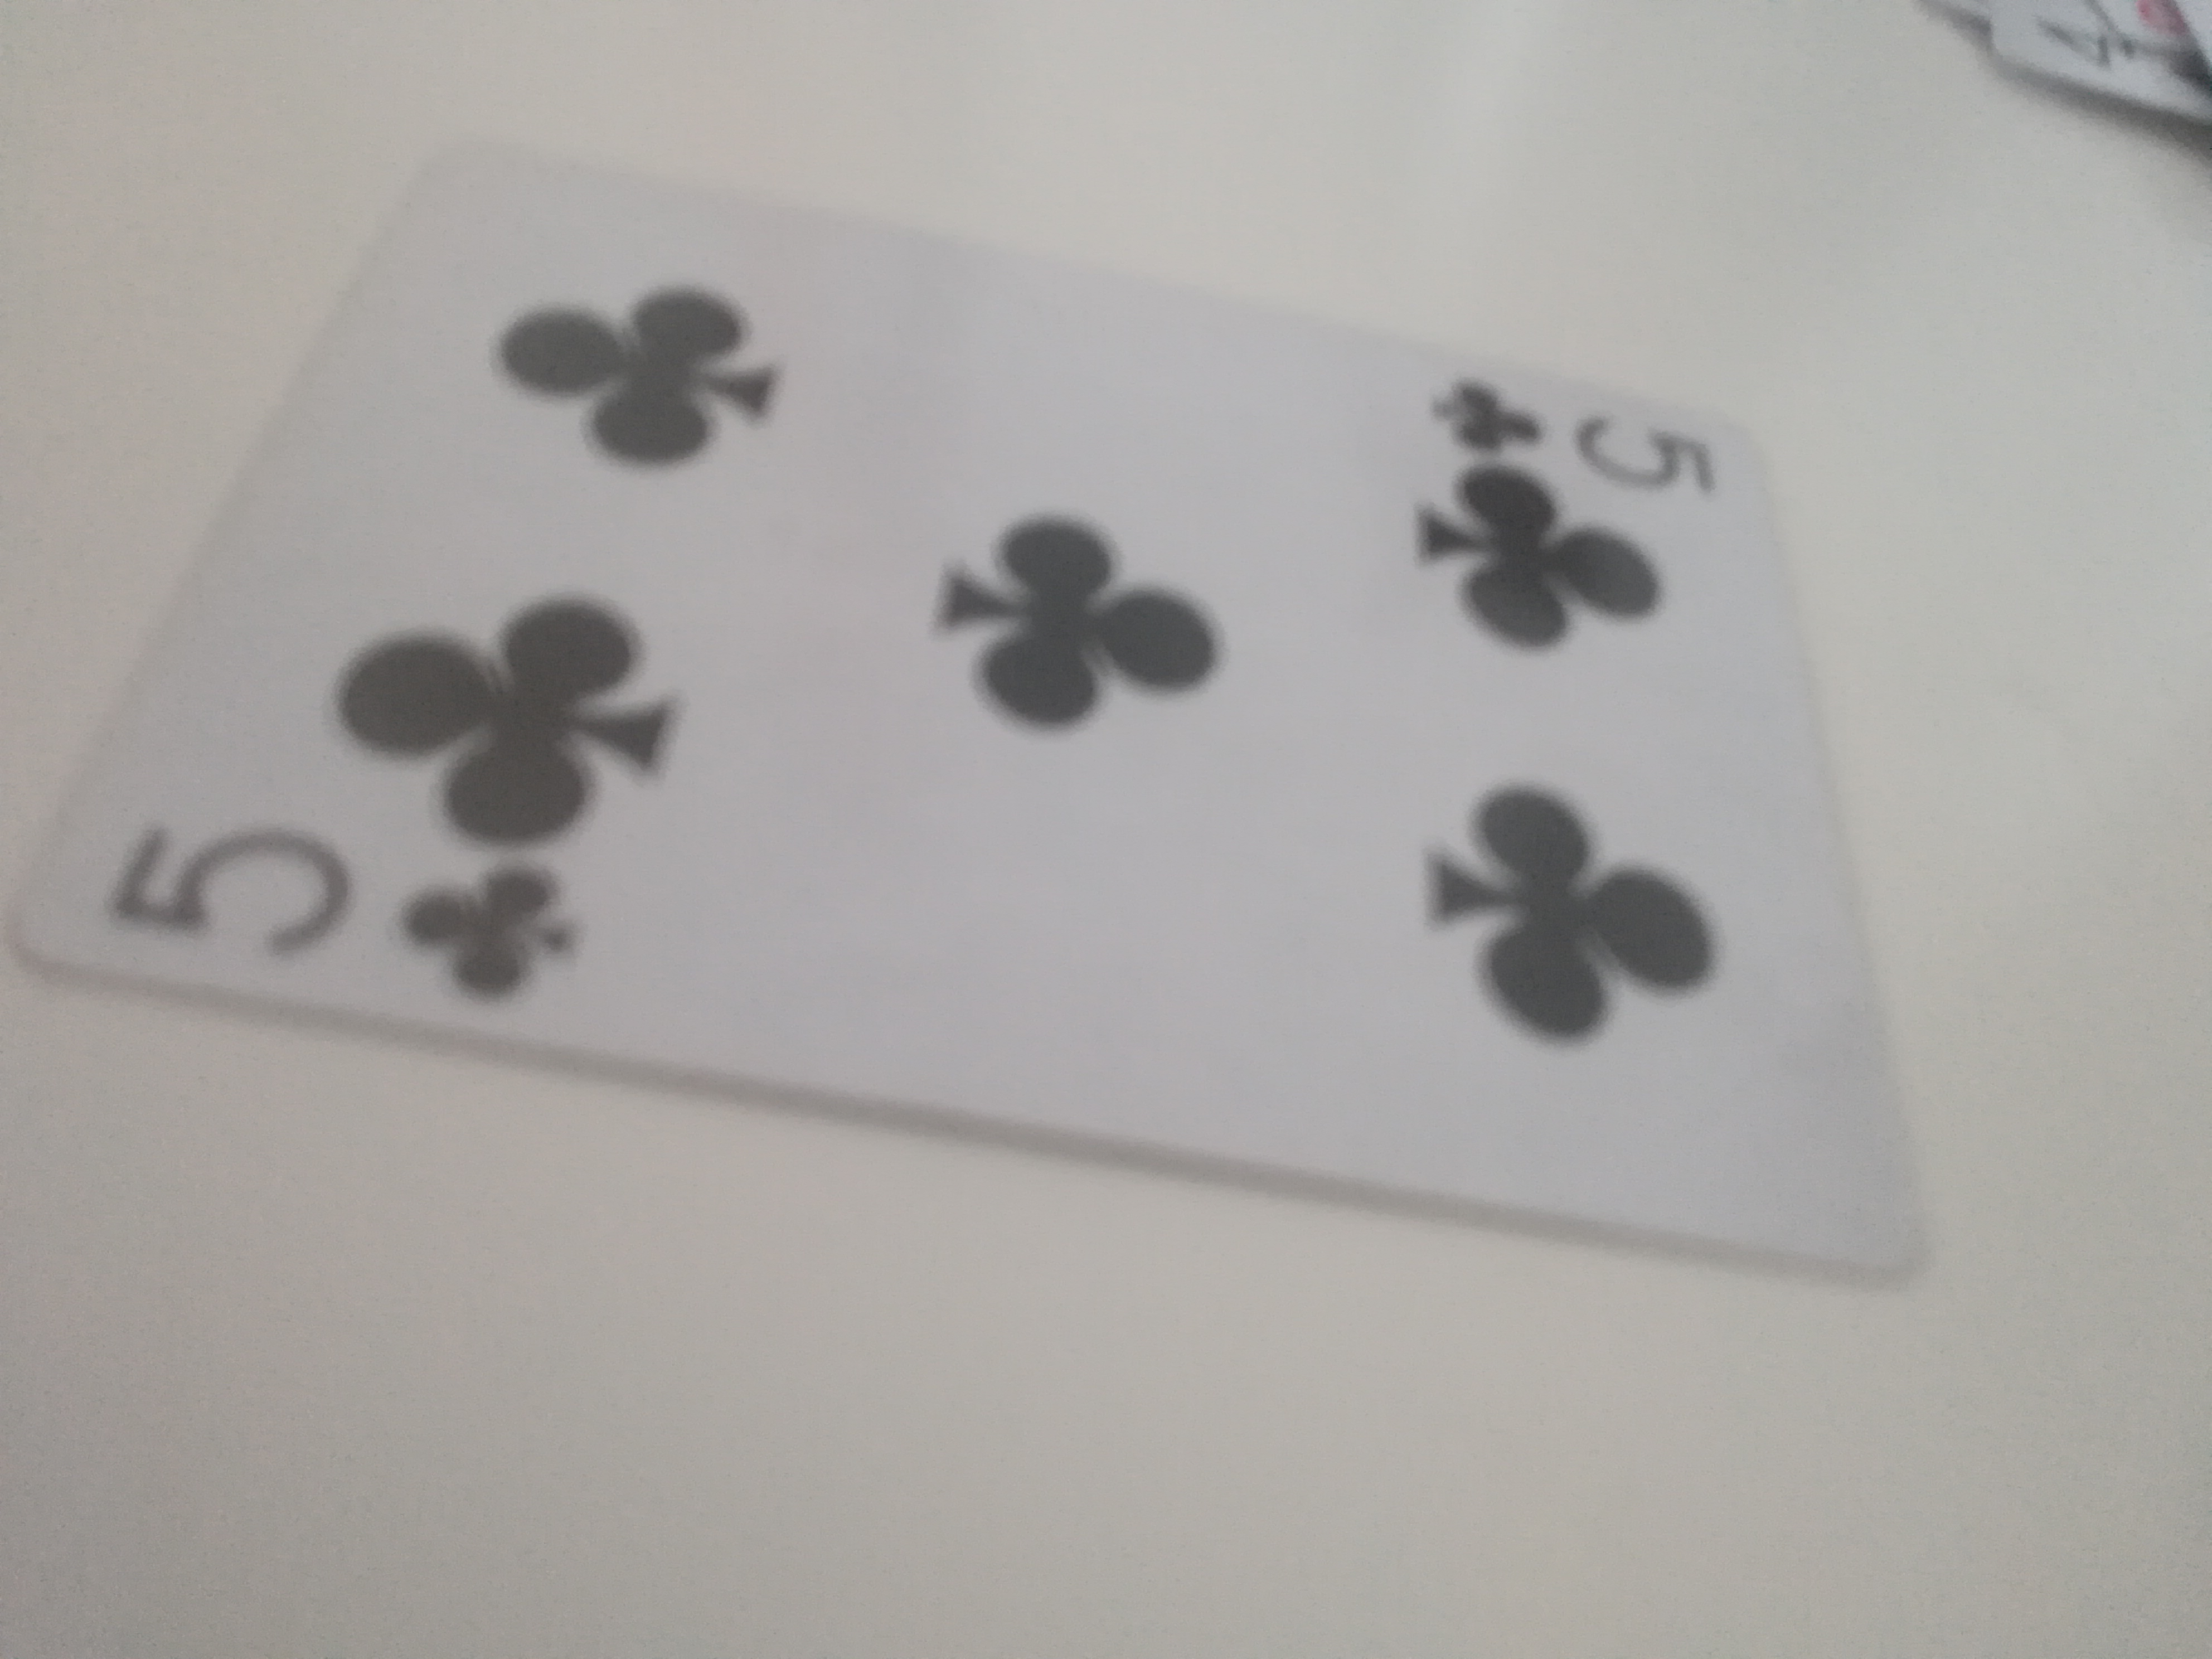5C: (3, 141, 1954, 1290)
